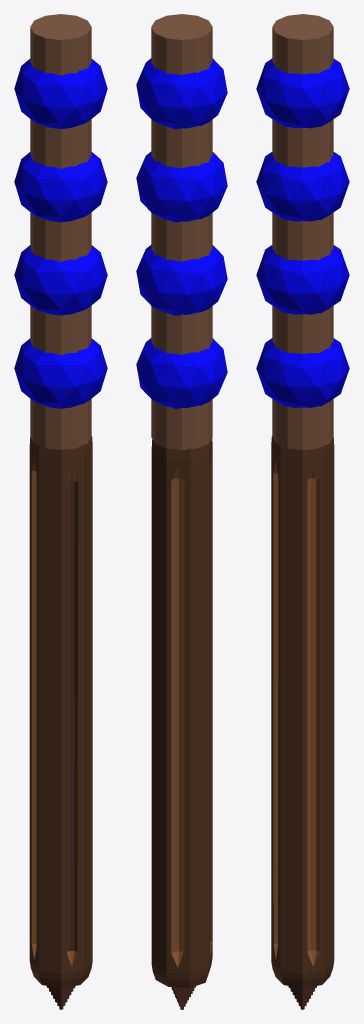
File: Wand 534.glb
3 renders of one model, left to right at view 1: azimuth 90°, elevation 25°; view 2: azimuth 150°, elevation 25°; view 3: azimuth 270°, elevation 25°, orthographic.
Visible parts, largest first — view 1: GeneratedWand; view 2: GeneratedWand; view 3: GeneratedWand.
Boxes of the visible parts, x1,y1,x2,y2 form: GeneratedWand: [14, 14, 107, 1009]; GeneratedWand: [136, 14, 227, 1009]; GeneratedWand: [256, 14, 349, 1009].
Size of the model in its own units: 0.0407 by 0.497 by 0.0428.
